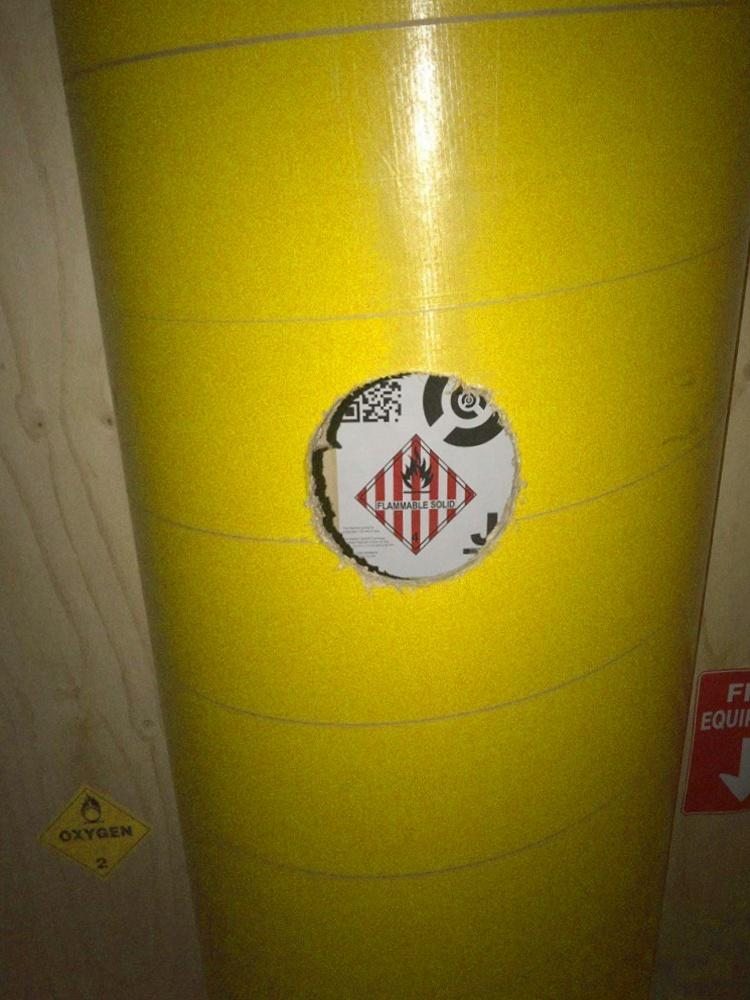flammable-solid: (351, 433, 481, 556)
oxidizer: (35, 776, 155, 884)
